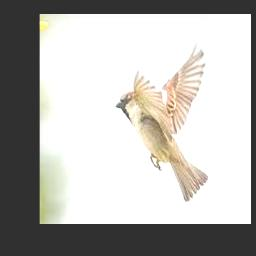Sparrow: (115, 41, 208, 202)
